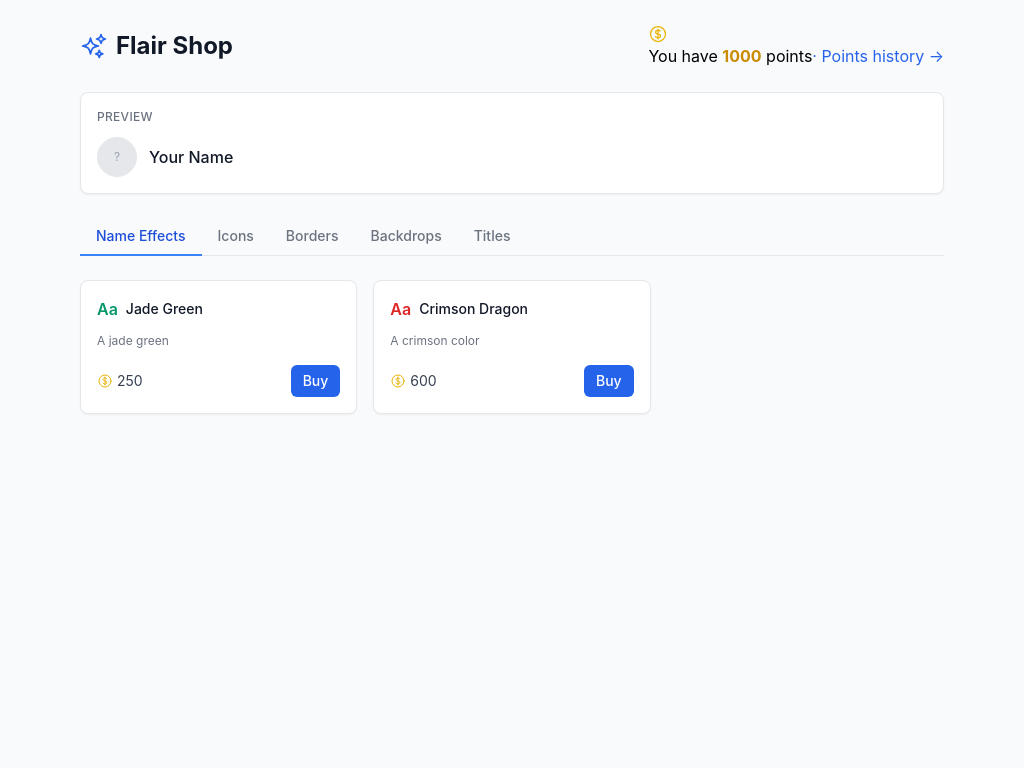
Test: Shop page › purchase flow › confirming purchases the item and announces success as a status
Step 1. Click the button "Buy" next to "250" → (316, 381), box top-left (291, 365), bottom-right (340, 397)
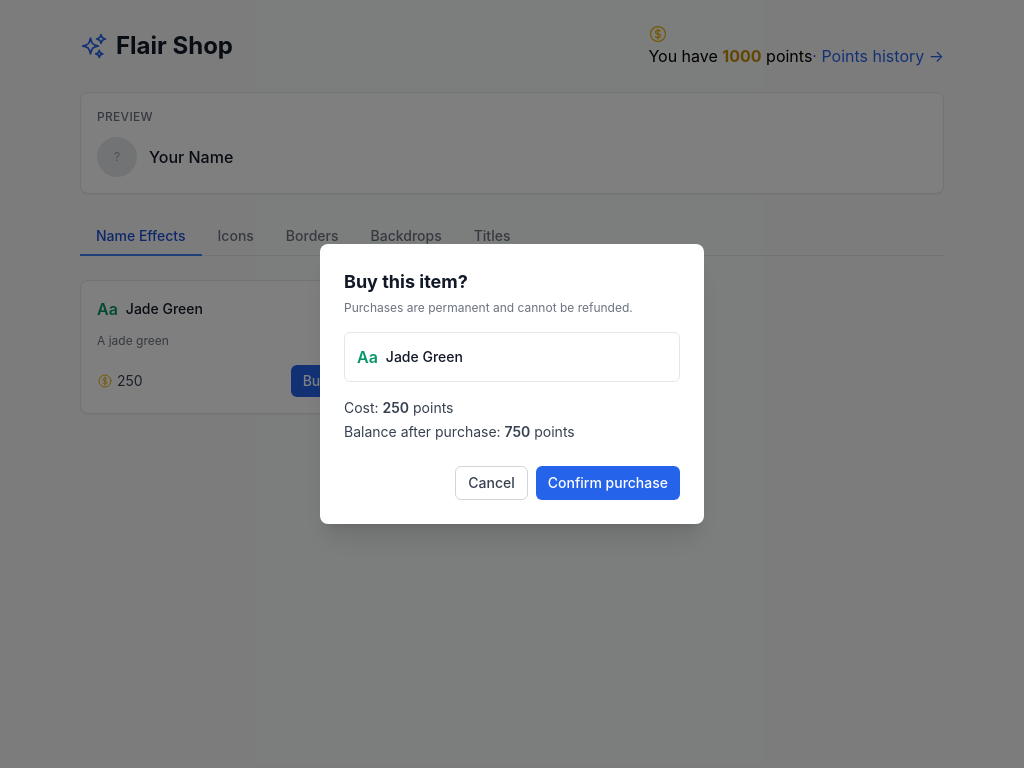
Step 2. Click the button "Confirm purchase" → (608, 483), box top-left (536, 466), bottom-right (680, 500)
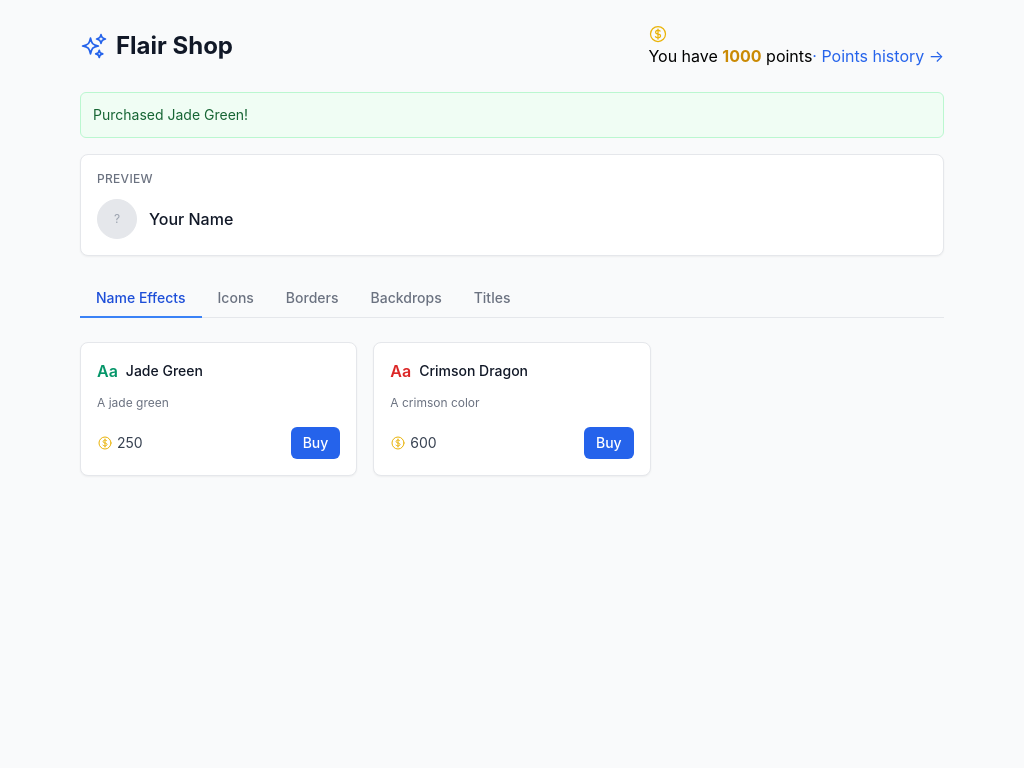
expect the message reads "Purchased Jade Green!": met, box top-left (93, 106), bottom-right (248, 123)
expect the dialog is gone: met
